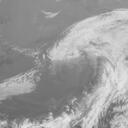cyclone: (41, 39, 99, 100)
